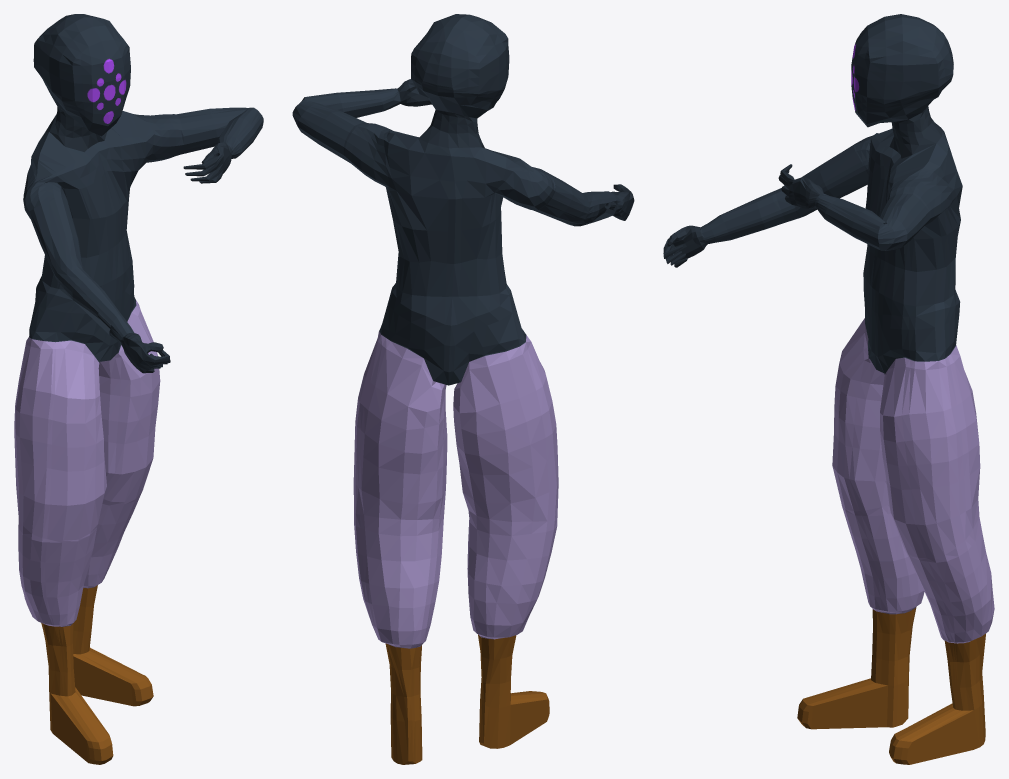
Rendered from Oracle_Reload_000002.obj.
The picture shows the model from 3 angles, left to right: view 1: azimuth 30°, elevation 25°; view 2: azimuth 150°, elevation 25°; view 3: azimuth 270°, elevation 25°; orthographic projection. The views are drawn at different scales.
Visible parts, largest first — view 1: Cube; view 2: Cube; view 3: Cube.
Part boxes in pixels (x1,y1,x2,y2): Cube: (14,14,263,764); Cube: (292,14,634,764); Cube: (663,14,994,764).
Bounding box in the file's own units: 1.43 × 3.94 × 1.64.
